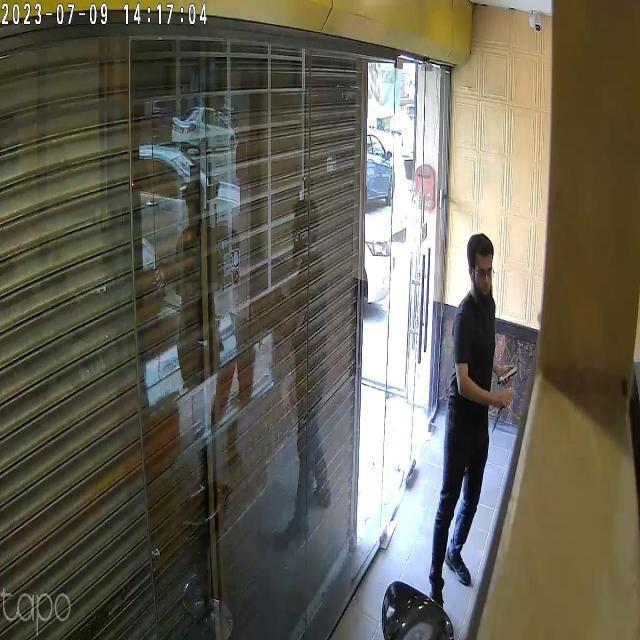Knife: (489, 388, 516, 439)
